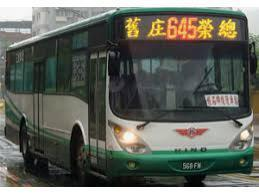bus: (2, 6, 255, 185)
